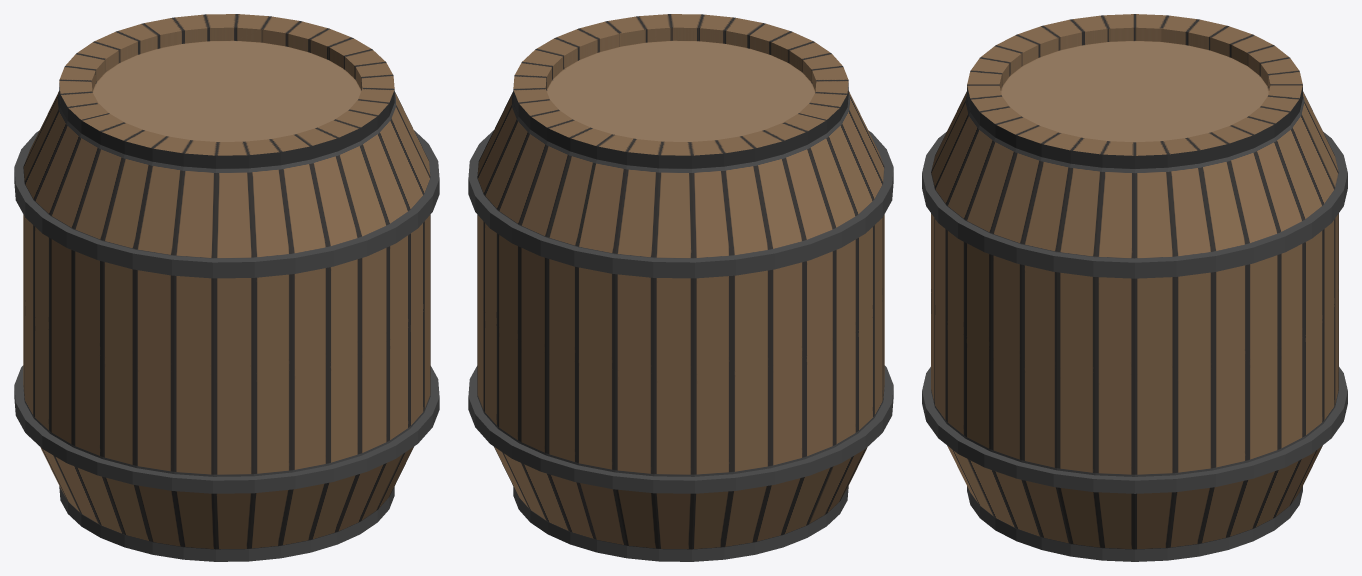
File: berrel.glb
3 renders of one model, left to right at view 1: azimuth 30°, elevation 25°; view 2: azimuth 150°, elevation 25°; view 3: azimuth 270°, elevation 25°, orthographic.
Visible parts, largest first — view 1: Cylinder; view 2: Cylinder; view 3: Cylinder.
Boxes of the visible parts, x1,y1,x2,y2 form: Cylinder: (14,14,439,561); Cylinder: (468,14,893,561); Cylinder: (922,14,1347,561).
Bounding box in the file's own units: 1.67 × 1.76 × 1.67.
1 material, 1 textured.
